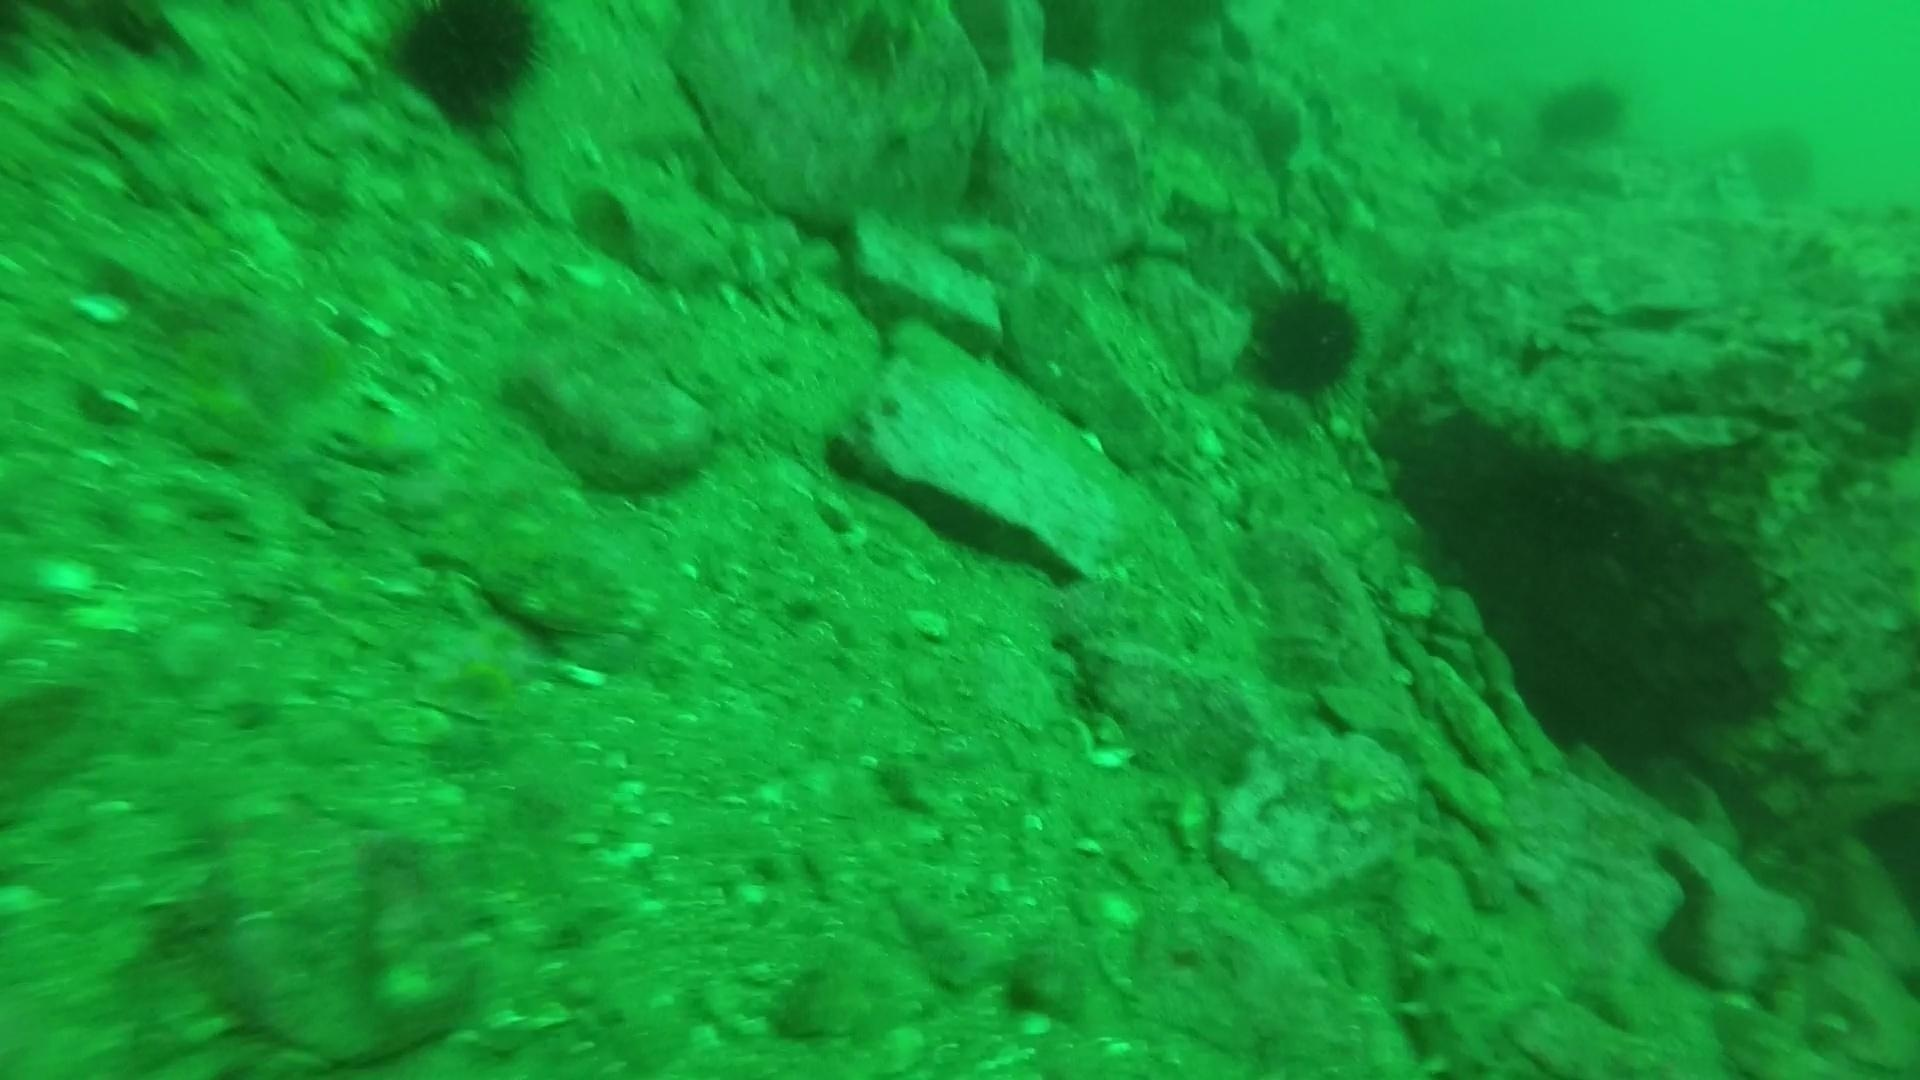echinus: (375, 1, 554, 131), (1238, 273, 1370, 406), (1530, 69, 1634, 152), (1733, 119, 1824, 211)
holothurian: (1389, 914, 1519, 1077)
starfish: (404, 612, 555, 723)
